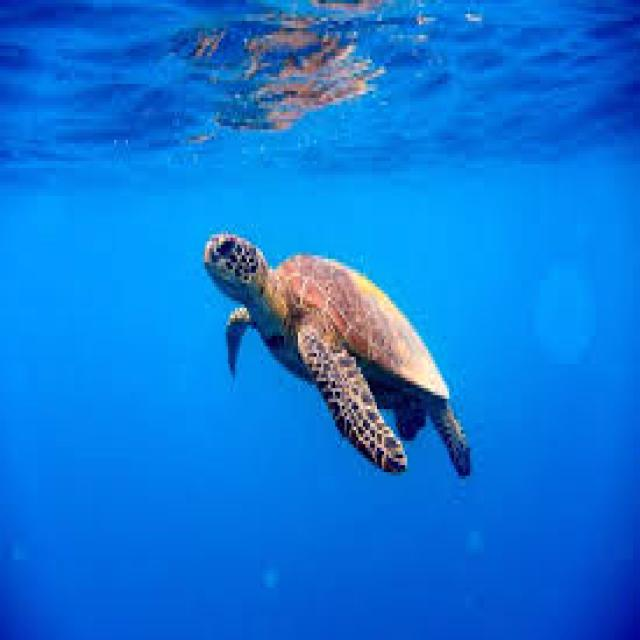Sea turtle: (193, 210, 489, 496)
